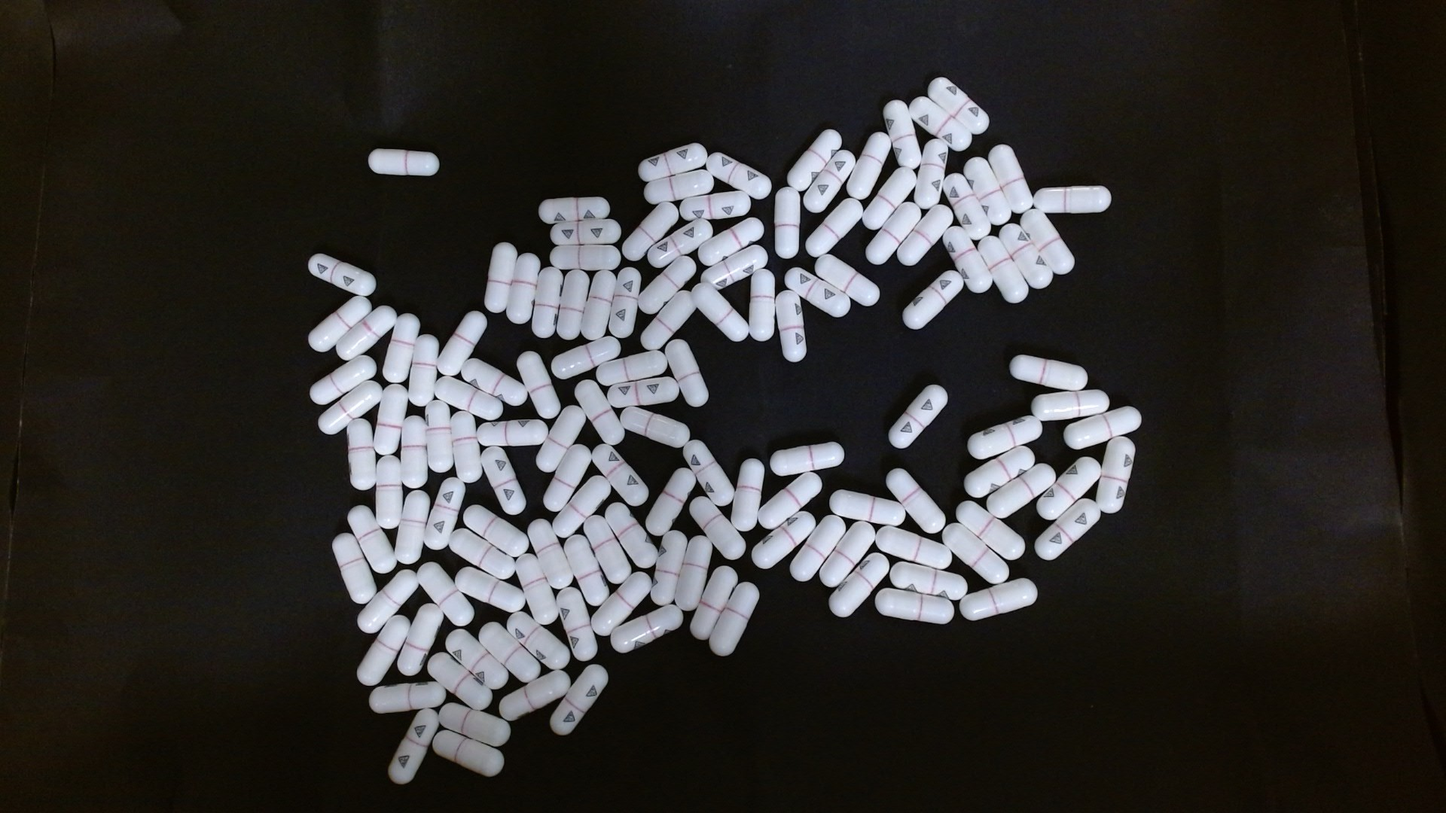Capsule: (940, 520, 1015, 585), (546, 662, 610, 737), (355, 604, 415, 683), (1035, 456, 1103, 522), (707, 580, 763, 659), (755, 469, 824, 533), (357, 566, 418, 638), (956, 499, 1026, 561), (788, 511, 846, 585), (590, 571, 654, 638), (886, 467, 950, 534), (632, 253, 700, 316), (497, 667, 572, 724), (688, 486, 745, 561), (504, 607, 569, 672), (478, 620, 544, 684), (444, 627, 511, 690), (609, 602, 685, 657), (985, 462, 1058, 519), (679, 437, 737, 508), (688, 565, 740, 644), (925, 76, 990, 139), (888, 383, 950, 449), (865, 199, 926, 266), (859, 164, 918, 233), (963, 444, 1038, 498), (310, 352, 382, 408), (828, 552, 890, 617), (427, 651, 494, 711), (815, 521, 874, 589), (691, 277, 750, 345), (590, 440, 649, 508), (1017, 208, 1075, 277), (396, 598, 446, 678), (1000, 220, 1056, 291), (901, 267, 965, 329), (308, 294, 373, 355), (894, 204, 954, 270), (316, 376, 383, 435), (334, 300, 396, 363), (750, 509, 815, 569), (799, 147, 857, 214), (941, 224, 995, 295), (813, 252, 880, 309), (347, 505, 397, 581), (782, 267, 855, 319), (534, 404, 589, 473), (909, 95, 973, 154), (454, 565, 528, 616), (786, 128, 843, 194), (461, 503, 530, 557), (605, 500, 659, 569), (803, 197, 864, 258), (641, 288, 699, 352), (963, 155, 1014, 227), (331, 528, 379, 604), (432, 729, 506, 778), (449, 528, 517, 581), (432, 375, 507, 423), (1039, 498, 1100, 557), (621, 202, 680, 263), (416, 561, 474, 623), (541, 444, 593, 513), (478, 443, 527, 516), (874, 522, 950, 569), (512, 545, 559, 621), (572, 379, 623, 449), (555, 585, 600, 664), (988, 143, 1036, 217), (527, 517, 574, 591), (846, 130, 893, 204), (977, 236, 1028, 304), (582, 516, 633, 584), (437, 702, 509, 750), (560, 472, 613, 537), (1062, 406, 1140, 450), (651, 215, 718, 266), (387, 712, 435, 783), (435, 311, 485, 379), (551, 335, 623, 382), (307, 252, 379, 299), (645, 466, 694, 535), (1095, 435, 1137, 515), (459, 358, 526, 408), (961, 577, 1038, 620), (969, 415, 1042, 460), (881, 99, 926, 172), (563, 534, 608, 606), (944, 172, 990, 242), (700, 244, 767, 292), (696, 219, 764, 266), (515, 350, 560, 421), (674, 534, 714, 612), (708, 151, 773, 199), (912, 136, 953, 212), (425, 475, 465, 552), (382, 312, 422, 388), (667, 337, 709, 409), (873, 586, 952, 624), (619, 405, 688, 448), (650, 529, 688, 607), (394, 489, 431, 567), (889, 559, 962, 598), (581, 269, 619, 343), (1010, 355, 1088, 391), (729, 457, 765, 535), (828, 489, 901, 527), (596, 349, 670, 386), (642, 165, 712, 204), (677, 188, 755, 223), (770, 440, 845, 476), (449, 413, 484, 488), (637, 143, 706, 181), (1034, 388, 1110, 422), (369, 681, 447, 714), (405, 333, 439, 407), (776, 285, 807, 365), (1032, 184, 1112, 215), (424, 397, 455, 477), (376, 384, 408, 461), (507, 252, 540, 326), (556, 269, 590, 340), (484, 242, 517, 315), (606, 269, 640, 339), (531, 266, 563, 340), (397, 413, 427, 489), (345, 419, 377, 490), (374, 454, 403, 532), (606, 379, 672, 413), (748, 269, 775, 348), (773, 185, 800, 262), (478, 418, 546, 448), (551, 244, 621, 272), (368, 148, 438, 176), (550, 219, 625, 245), (538, 197, 612, 221)
